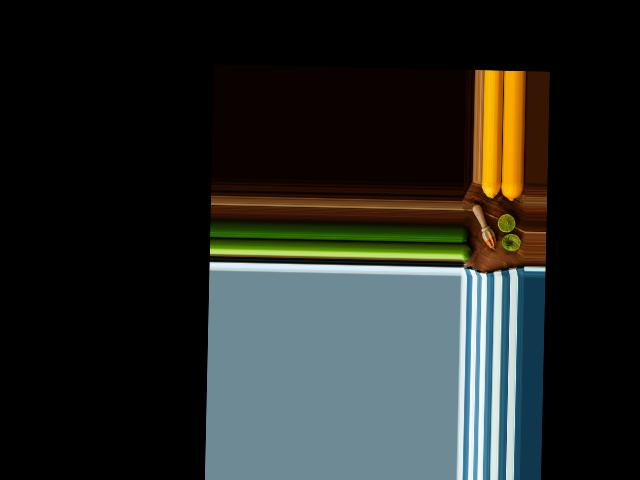lemon: (498, 182, 525, 204)
